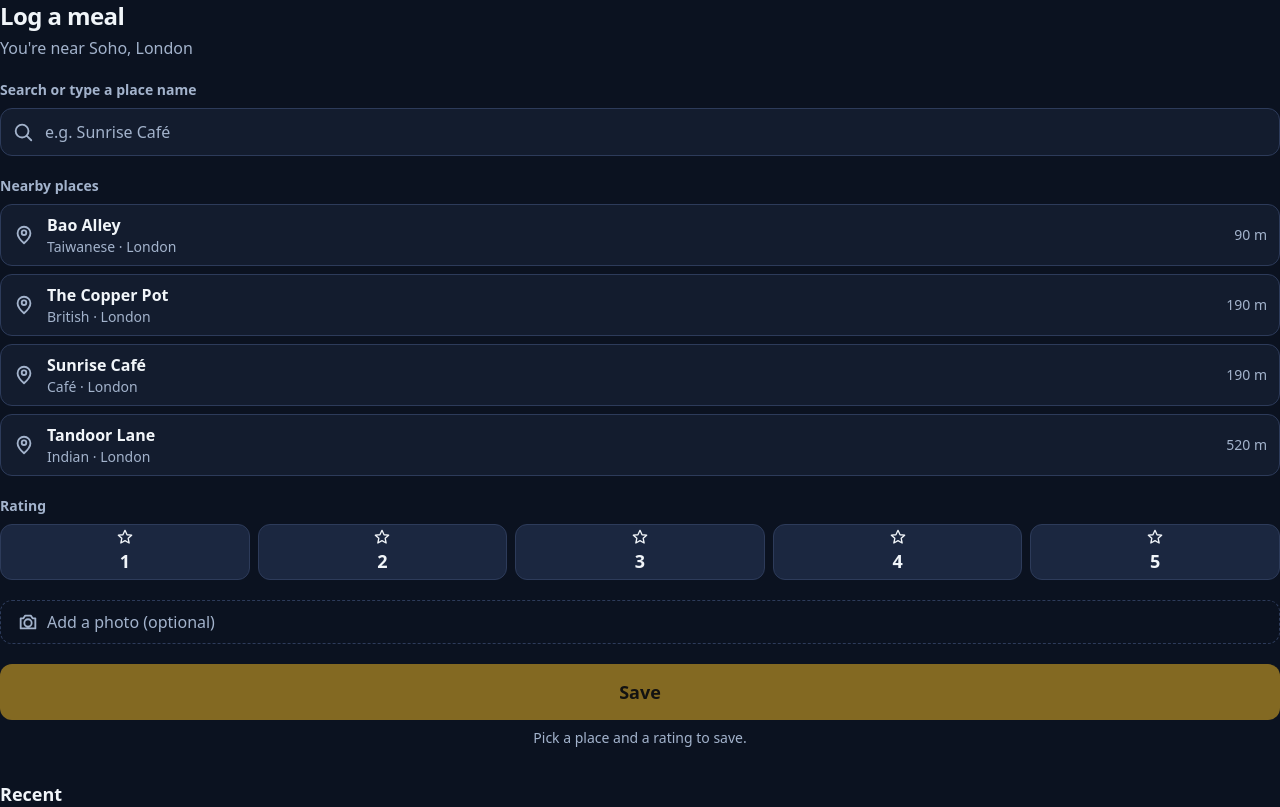
Quick Log › shows an error and keeps the form when saving fails
Step 1. Click the radio button labelled "Sunrise Café Café · London 190 m" → coordinates (640, 375), box [0,344,1279,406]
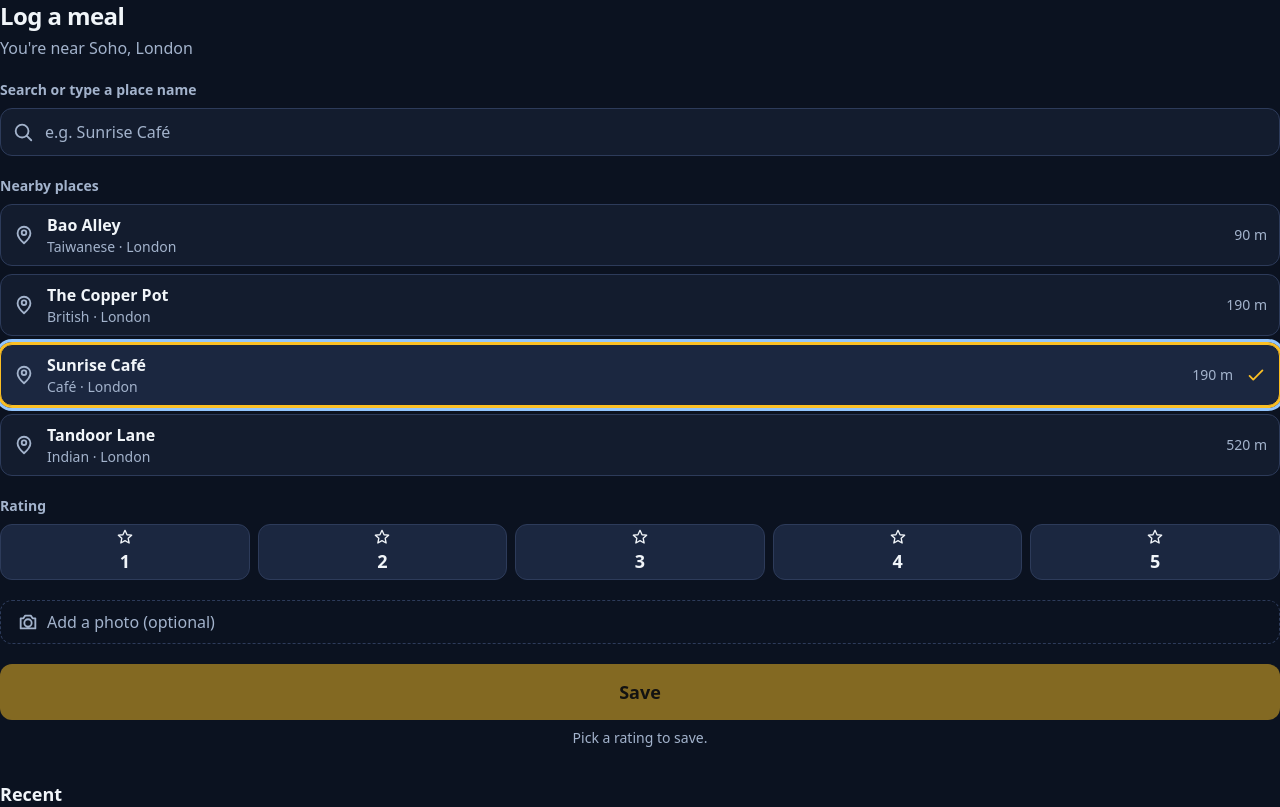
Step 2. Click the radio button named "2 stars" → coordinates (382, 552), box [258,524,507,580]
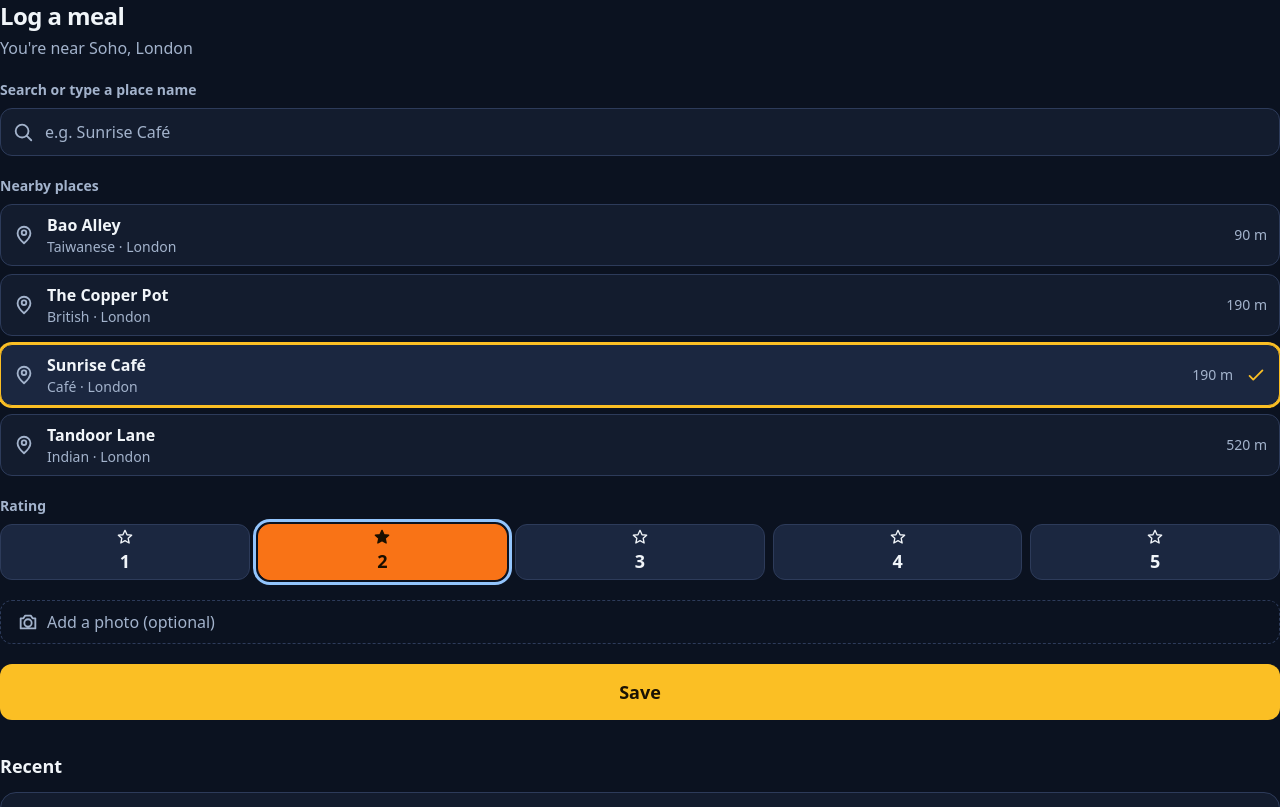
Step 3. Click the button "Save" → coordinates (640, 692), box [0,664,1279,720]
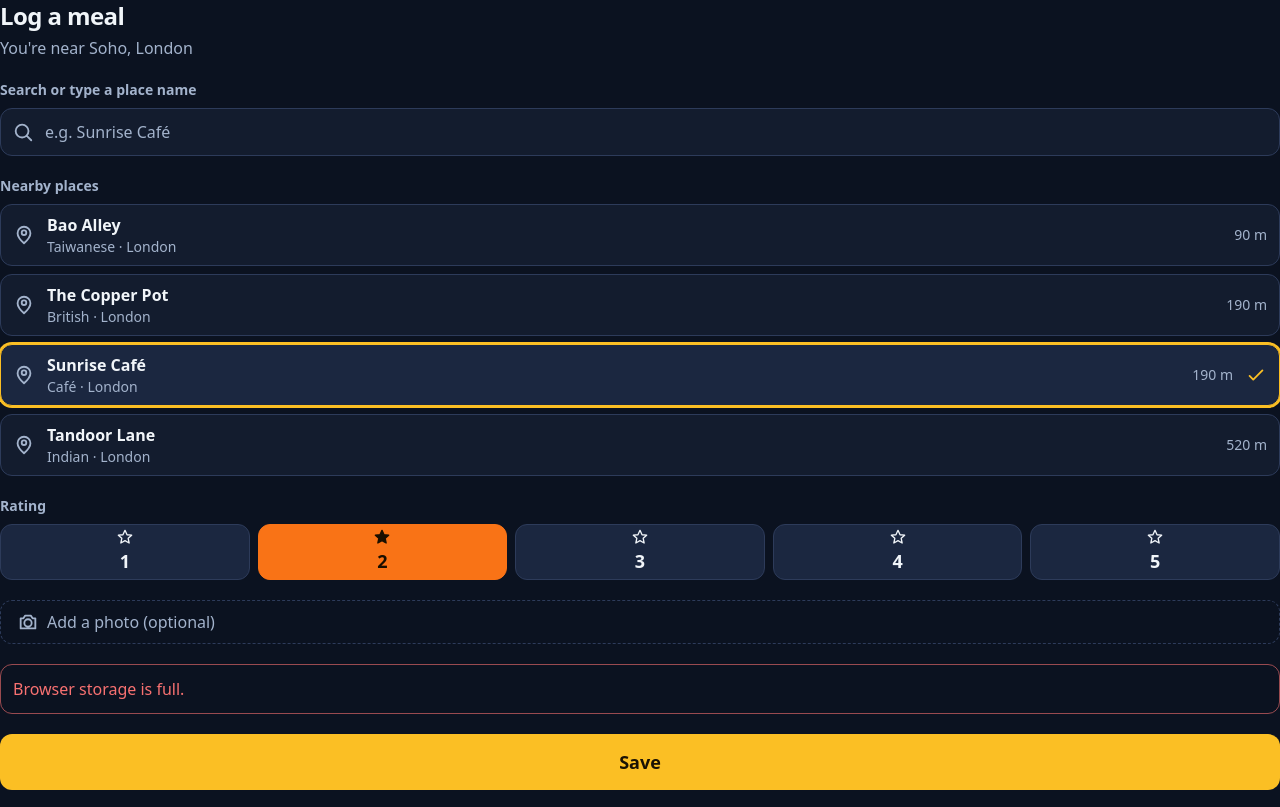
Expected: the radio button named "2 stars" is checked, [258,524,507,580]
Expected: the button "Save" is enabled, [0,734,1279,790]
Expected: the message shows "storage is full", [13,678,184,700]
